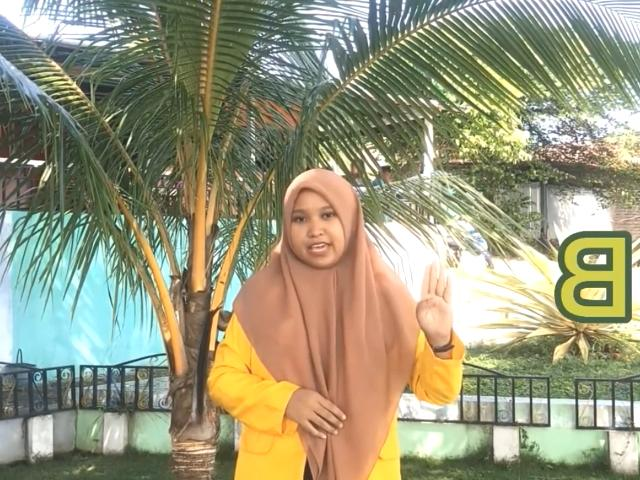B: (418, 260, 457, 340)
